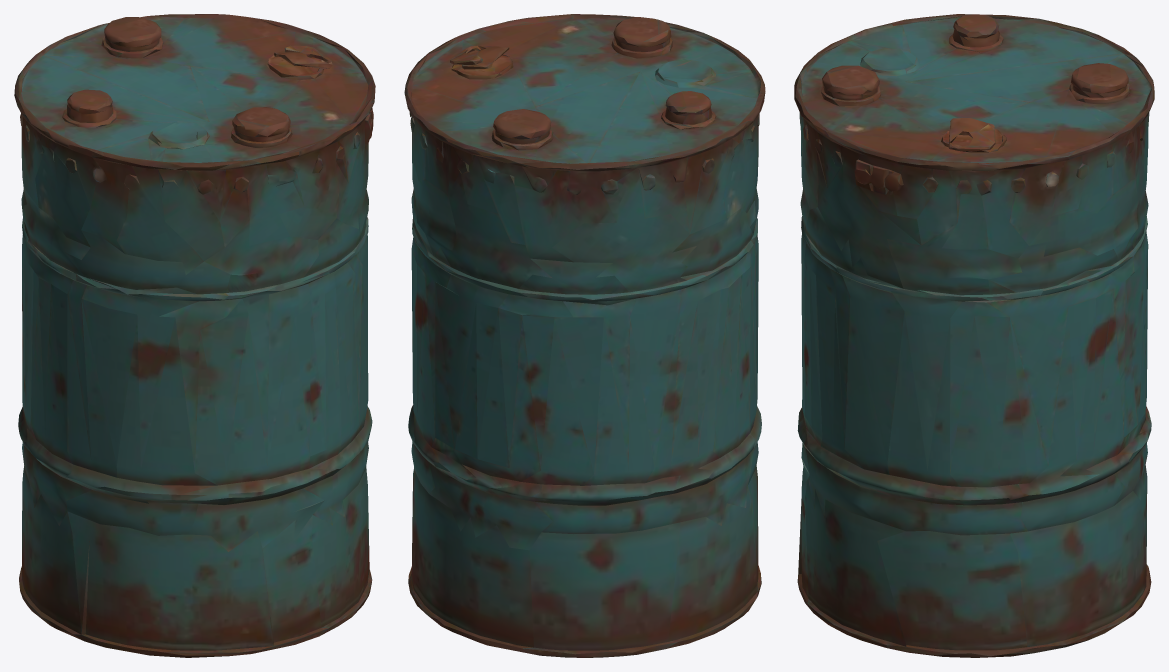
Rendered from prop_drum.glb.
The picture shows the model from 3 angles, left to right: view 1: azimuth 30°, elevation 25°; view 2: azimuth 150°, elevation 25°; view 3: azimuth 270°, elevation 25°; orthographic projection.
Size of the model in its own units: 1.21 by 1.9 by 1.21.
1 material, 1 textured.
